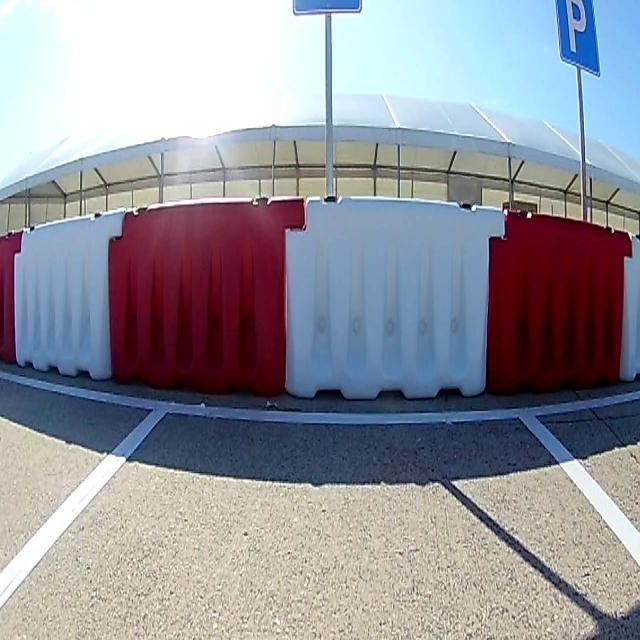park: (554, 1, 600, 75)
